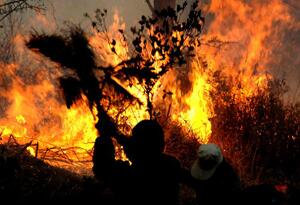fire: (6, 66, 96, 165), (217, 8, 275, 94), (176, 65, 217, 142), (93, 17, 128, 66), (125, 76, 152, 123)
